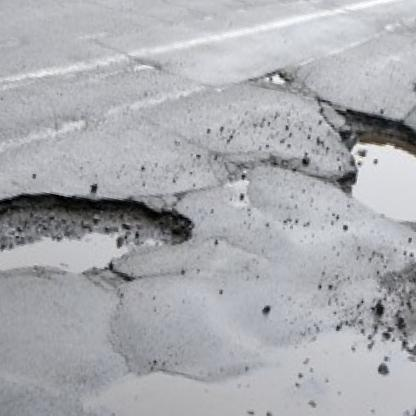pothole: (0, 157, 198, 321), (323, 104, 416, 239), (256, 65, 291, 89)
